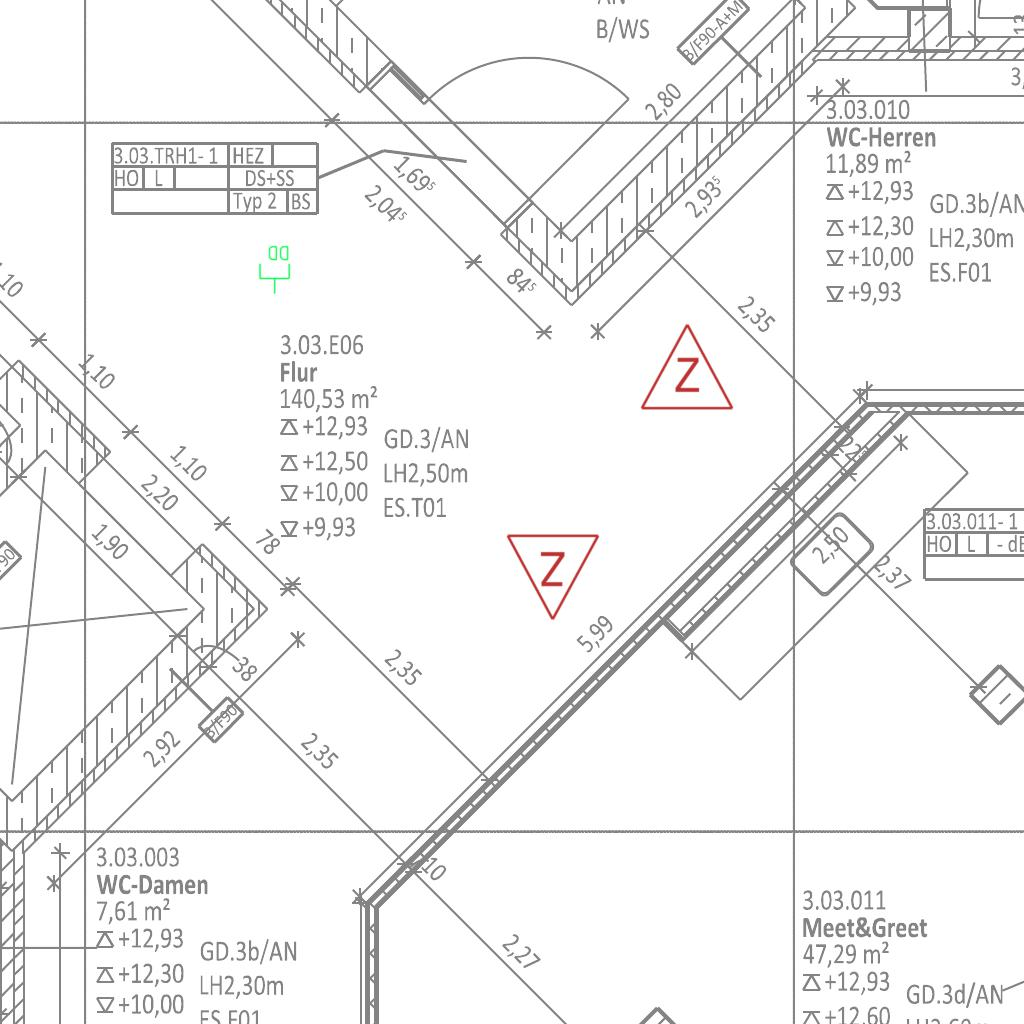Datenanschluss_zweifach: (258, 244, 292, 295)
Zimmersignalleuchte: (505, 527, 603, 627), (637, 317, 735, 417)
